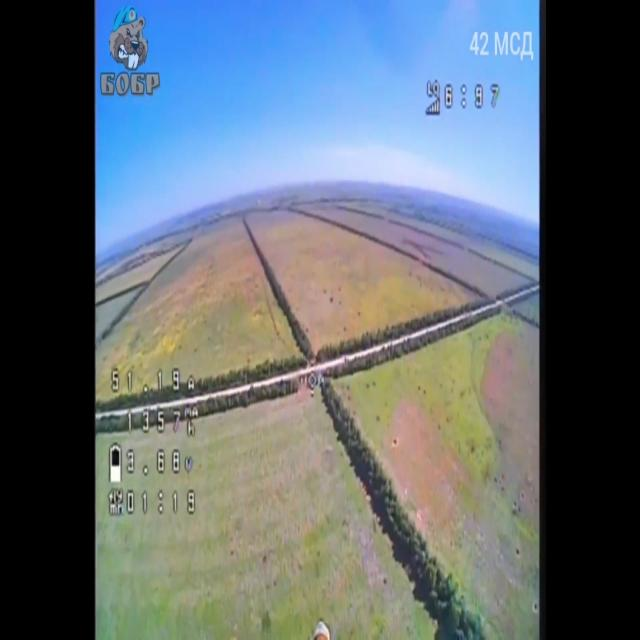cars: (400, 336, 408, 344), (344, 358, 350, 365), (388, 342, 393, 349)
